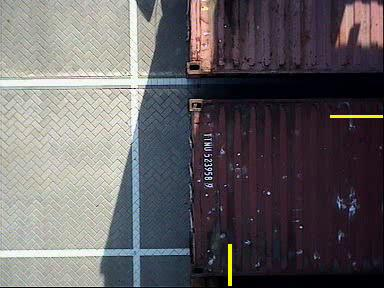groundmarker_2: (136, 152, 203, 188), (134, 212, 201, 248)
